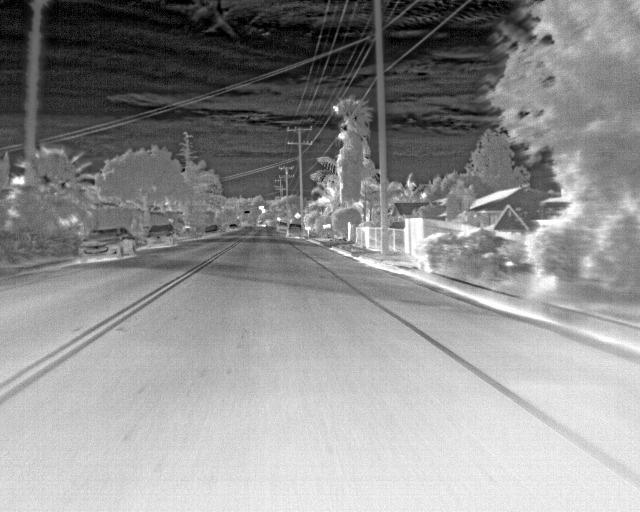car: (77, 227, 136, 265), (145, 224, 178, 250), (283, 222, 304, 241), (202, 223, 220, 239), (274, 221, 287, 233), (228, 221, 239, 232)
